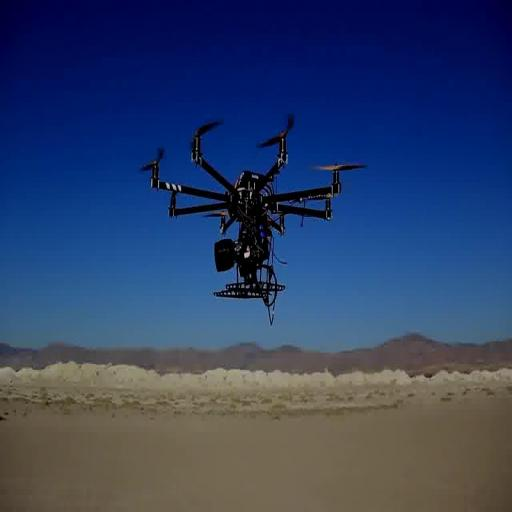drone: (137, 113, 371, 301)
